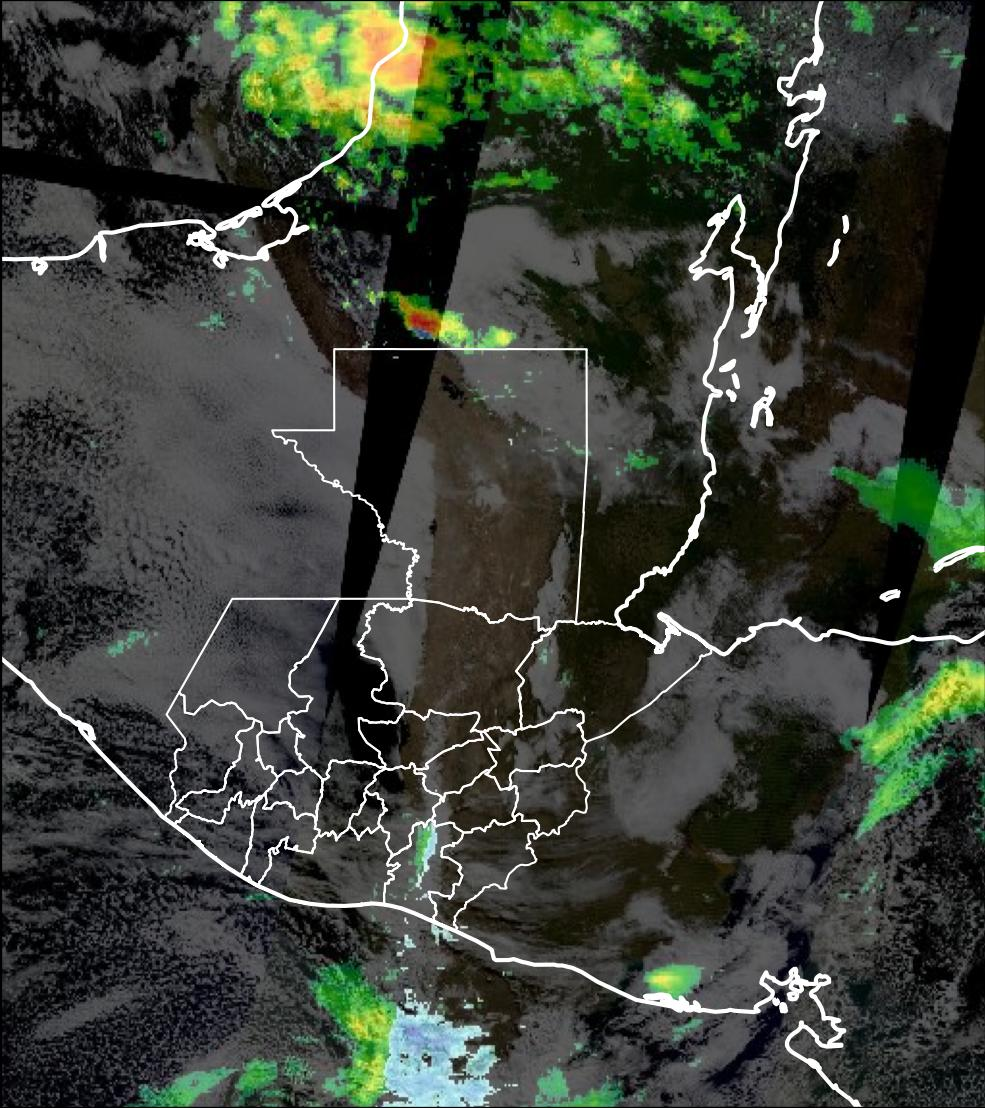precipitacion: (343, 22, 454, 112), (372, 287, 516, 346)
